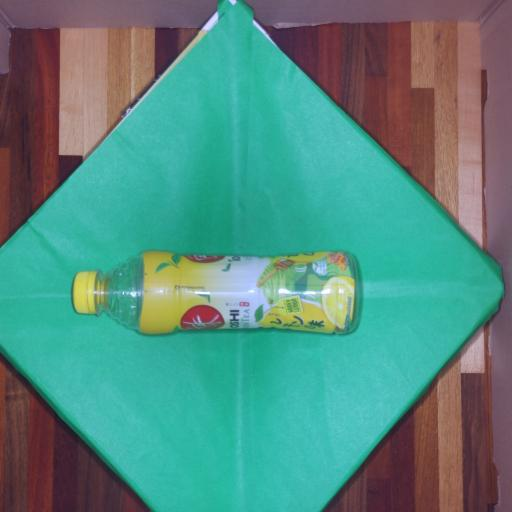bottle: (73, 252, 357, 333)
